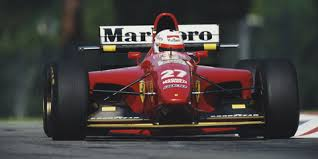f1_car: (39, 10, 306, 146)
